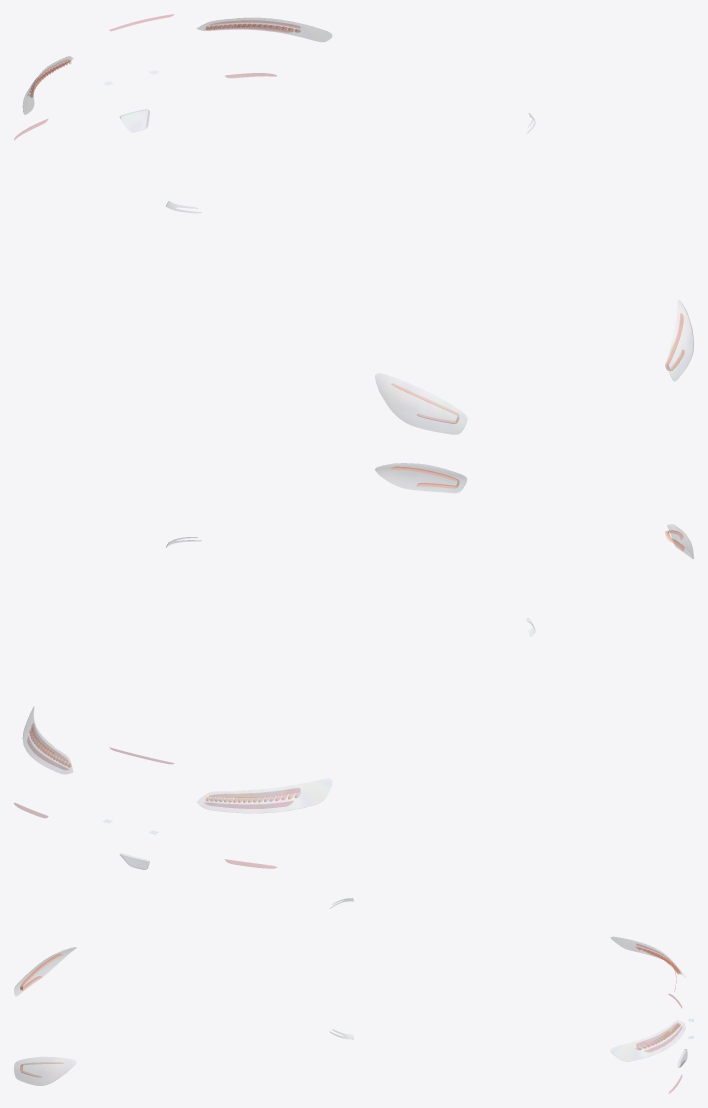
File: amg3__M_LGlass_InnerClear_Max.001_Glass_0.glb
3 views of the same model, one above another, from view 1: azimuth 30°, elevation 25°; view 2: azimuth 150°, elevation 25°; view 3: azimuth 270°, elevation 25° (orthographic). The views are drawn at different scales.
Parts seen in each view (by area): view 1: amg3__M_LGlass_InnerClear_Max.001_Glass_0; view 2: amg3__M_LGlass_InnerClear_Max.001_Glass_0; view 3: amg3__M_LGlass_InnerClear_Max.001_Glass_0.
Part boxes in pixels (x1,y1,x2,y2): amg3__M_LGlass_InnerClear_Max.001_Glass_0: (14,14,693,434); amg3__M_LGlass_InnerClear_Max.001_Glass_0: (14,463,693,869); amg3__M_LGlass_InnerClear_Max.001_Glass_0: (14,898,693,1093).
Bounding box in the file's own units: 2.39 × 0.8006 × 4.98.
Materials: 1 (1 with a texture image).
